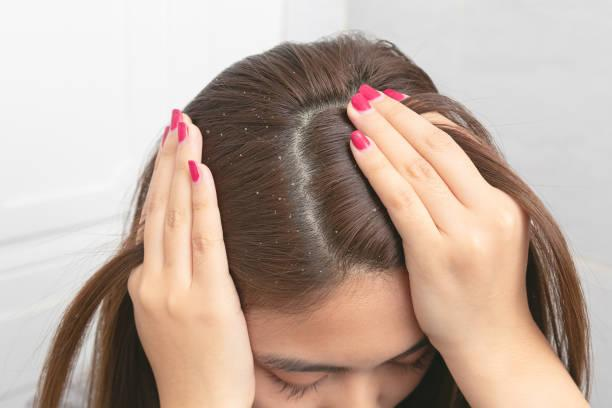dandruff: (297, 264, 325, 278), (249, 188, 272, 198), (235, 83, 248, 99), (288, 178, 302, 191), (367, 204, 382, 216), (273, 151, 289, 162), (254, 238, 268, 250), (271, 278, 284, 289), (330, 227, 345, 236), (285, 209, 295, 222), (292, 226, 305, 236), (202, 128, 213, 138), (235, 151, 246, 160), (288, 68, 299, 76), (242, 126, 251, 131)
